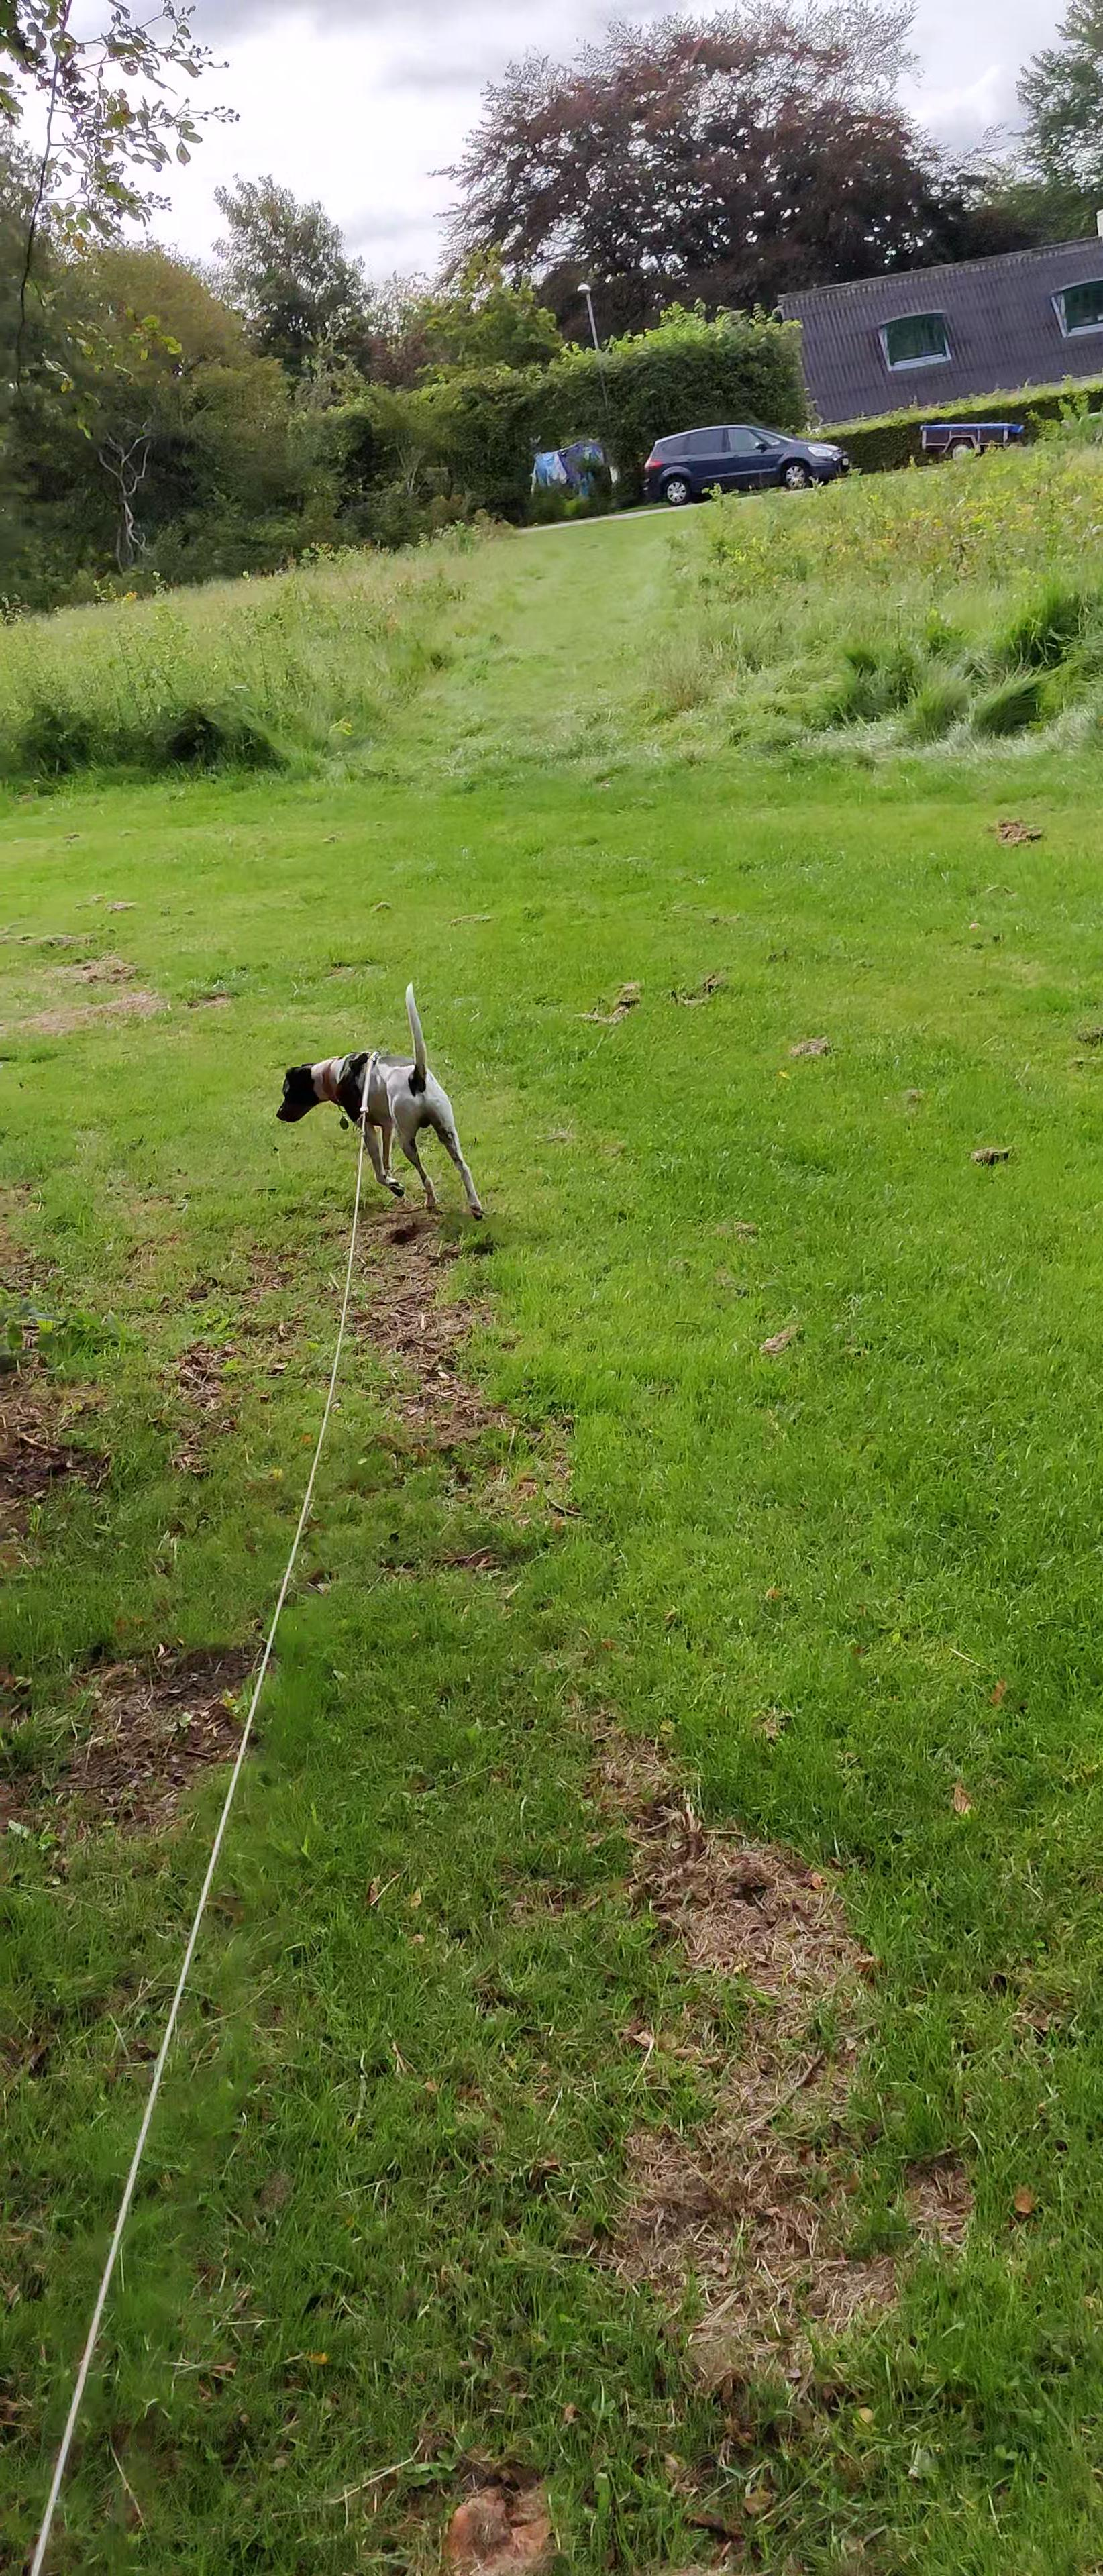Dog: (266, 969, 519, 1235)
